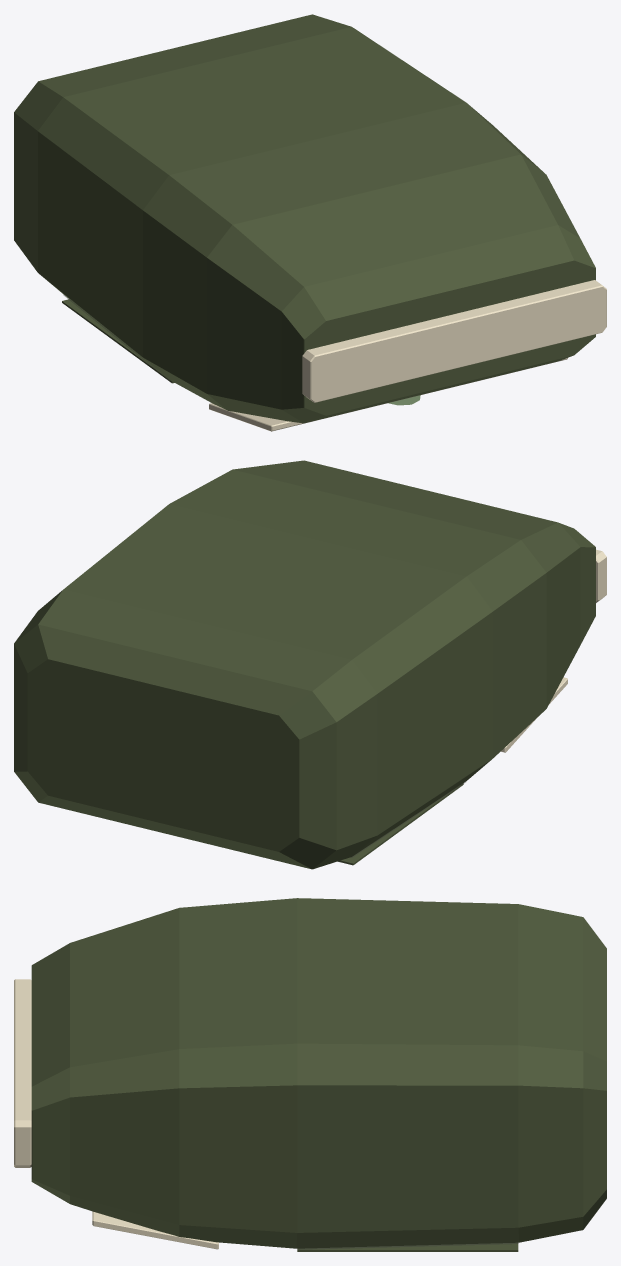
Rendered from licorice.glb.
3 renders of one model, top to bottom at view 1: azimuth 30°, elevation 25°; view 2: azimuth 150°, elevation 25°; view 3: azimuth 270°, elevation 25°, orthographic.
Parts seen in each view (by area): view 1: licorice; view 2: licorice; view 3: licorice.
Boxes of the visible parts, x1,y1,x2,y2 form: licorice: [14, 14, 606, 431]; licorice: [14, 460, 606, 869]; licorice: [14, 898, 606, 1251].
Bounding box in the file's own units: 0.1236 × 0.0706 × 0.1809.
